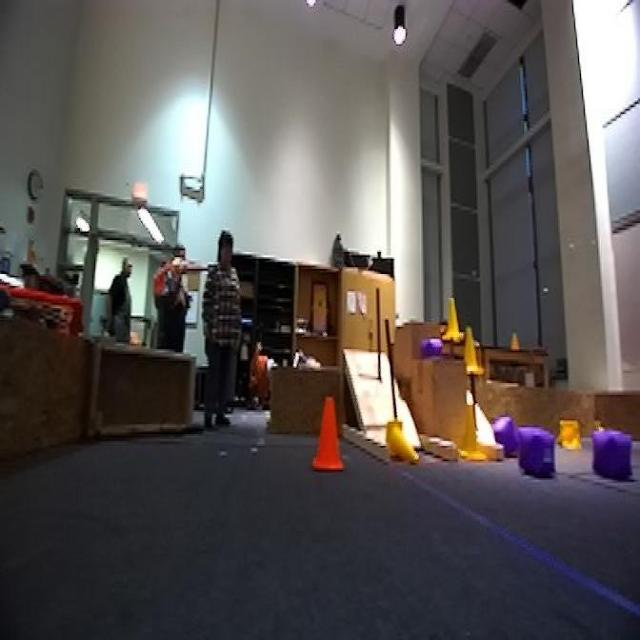frc_cone: (458, 400, 488, 461), (387, 417, 419, 466), (463, 325, 484, 376), (441, 298, 465, 342), (554, 417, 585, 451)
frc_cube: (592, 426, 634, 480), (517, 422, 556, 477), (491, 412, 518, 456), (419, 337, 444, 359)
